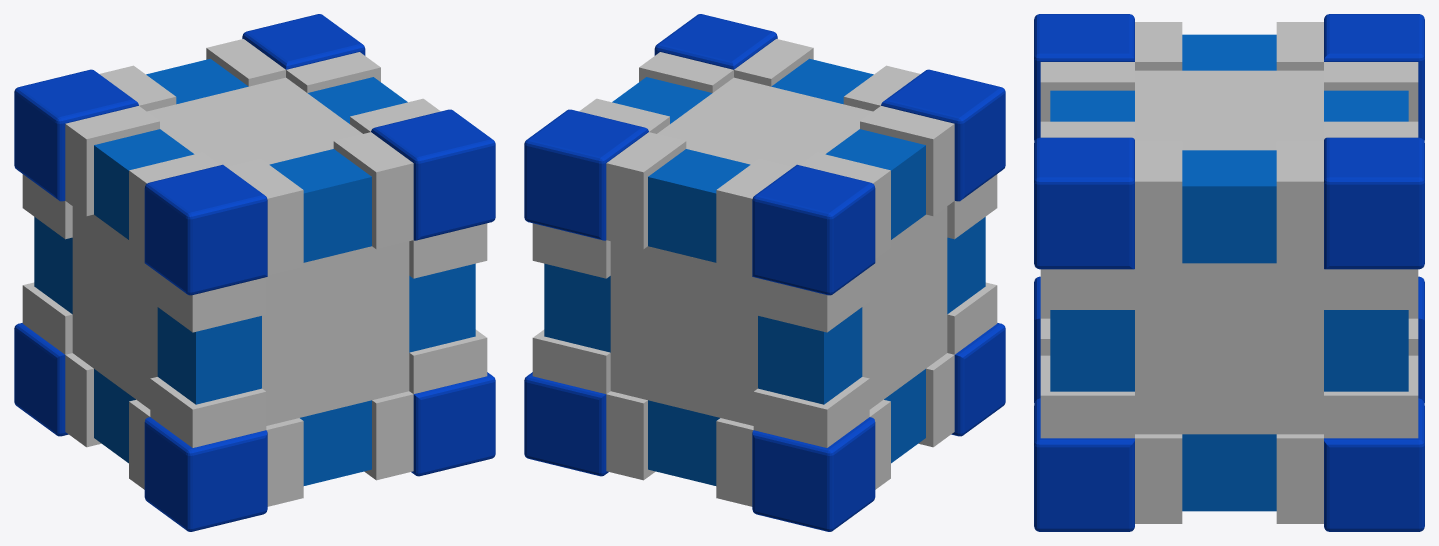
3 views of the same model, side by side, from view 1: azimuth 30°, elevation 25°; view 2: azimuth 150°, elevation 25°; view 3: azimuth 270°, elevation 25° (orthographic). The views are drawn at different scales.
Visible parts, largest first — view 1: Cube; view 2: Cube; view 3: Cube.
Part boxes in pixels (x1,y1,x2,y2): Cube: [14, 14, 495, 531]; Cube: [524, 14, 1005, 531]; Cube: [1034, 14, 1424, 531].
Size of the model in its own units: 2.1 by 2.07 by 2.07.
